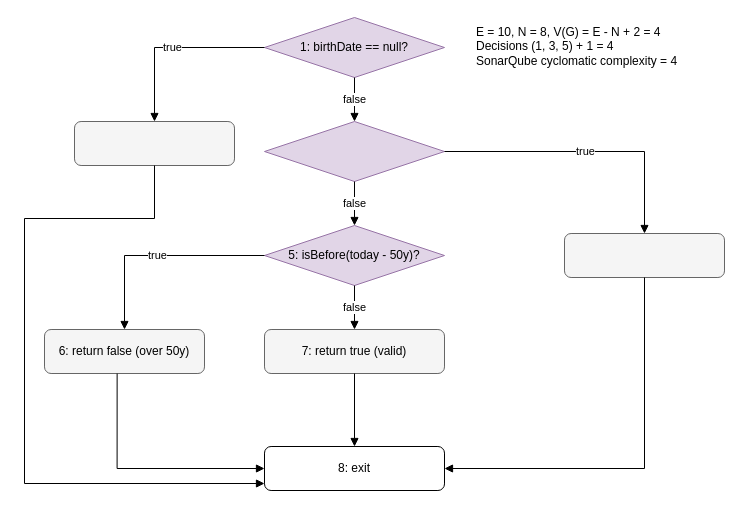
Some shapes in this 742 by 509 pixel diagram are drawn without their labels. Here are the shapes that lost their labels. From the top down, the box of each, then its label:
(74, 120, 234, 166): 2: return true (null)
(264, 120, 444, 182): 3: birthDate.isAfter(today)?
(564, 232, 724, 278): 4: return false (future)
